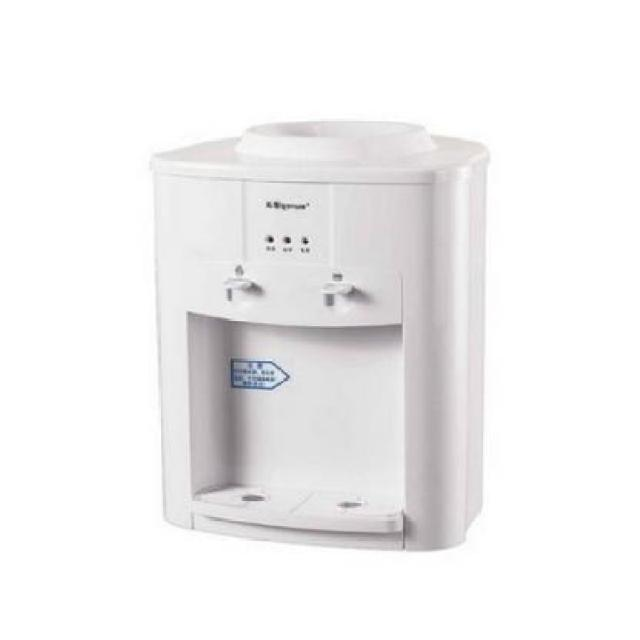cooler: (146, 117, 489, 558)
